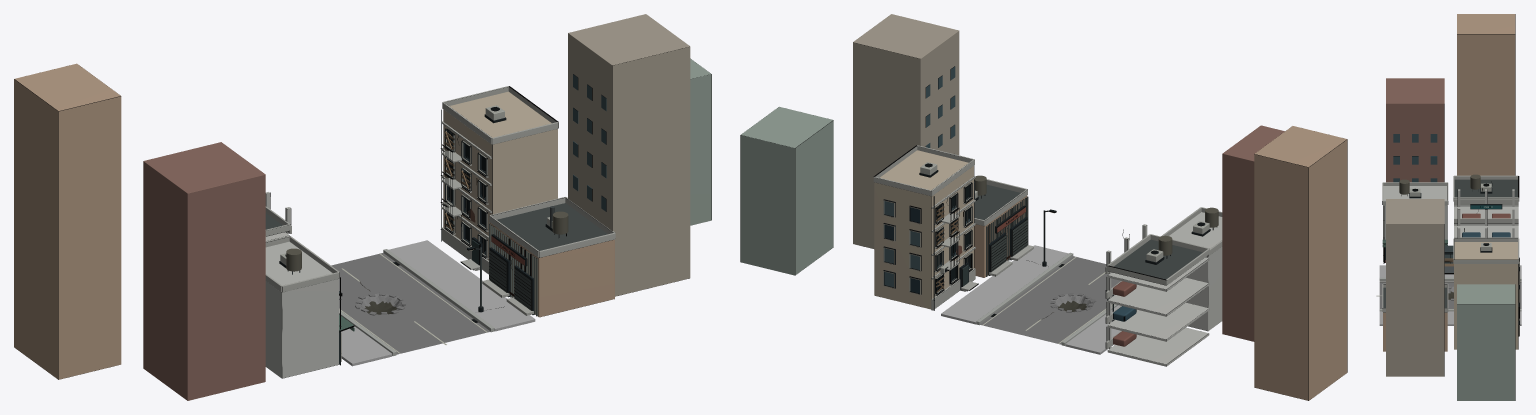
File: city_hd_14.glb
The picture shows the model from 3 angles, left to right: view 1: azimuth 30°, elevation 25°; view 2: azimuth 150°, elevation 25°; view 3: azimuth 270°, elevation 25°; orthographic projection. The views are drawn at different scales.
Parts seen in each view (by area): view 1: Apartment entrance door, CITY_PBR_asphalt, CITY_PBR_pavement, CITY_curb; view 2: Apartment entrance door, CITY_PBR_asphalt, CITY_PBR_pavement, CITY_curb, CITY_ac_paint, CITY_car_paint; view 3: Apartment entrance door, CITY_PBR_pavement, CITY_PBR_asphalt, CITY_ac_paint, CITY_car_paint.
Boxes of the visible parts, box(x1,y1,x2,y2) form: Apartment entrance door: box(14, 14, 711, 400); CITY_PBR_asphalt: box(331, 253, 490, 354); CITY_PBR_pavement: box(341, 240, 535, 366); CITY_curb: box(339, 249, 494, 355); Apartment entrance door: box(740, 14, 1347, 400); CITY_PBR_asphalt: box(980, 256, 1120, 344); CITY_PBR_pavement: box(941, 245, 1120, 354); CITY_curb: box(976, 252, 1117, 345); CITY_ac_paint: box(920, 162, 1209, 273); CITY_car_paint: box(1113, 281, 1136, 346); Apartment entrance door: box(1382, 14, 1519, 400); CITY_PBR_pavement: box(1379, 265, 1521, 325); CITY_PBR_asphalt: box(1379, 281, 1521, 308); CITY_ac_paint: box(1410, 183, 1491, 250); CITY_car_paint: box(1462, 213, 1510, 218).
Bounding box in the file's own units: 56 × 22.76 × 16.4.
8 materials, 1 textured.
